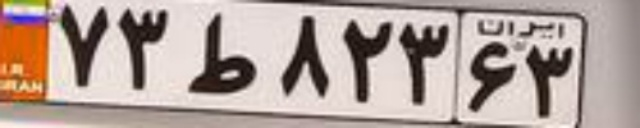2: (343, 19, 391, 103)
3: (115, 7, 173, 89), (398, 22, 455, 105), (519, 44, 580, 119)
6: (461, 40, 519, 112)
7: (59, 3, 110, 87)
8: (279, 14, 330, 96)
taa: (185, 10, 259, 94)
